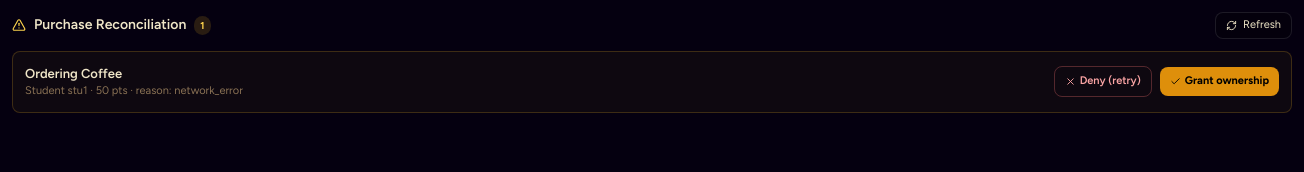
Test: Grant ownership calls resolveReconcile with 'succeeded' and refreshes the queue
This screenshot has width=1304, height=172.
Expected: the element with test id "reconcile-row-stu1::vid_1" is shown, [12,50,1292,112]
Step 1. Click the button with test id "reconcile-grant-stu1::vid_1" → {"x": 1219, "y": 82}, box [1160,67,1279,96]
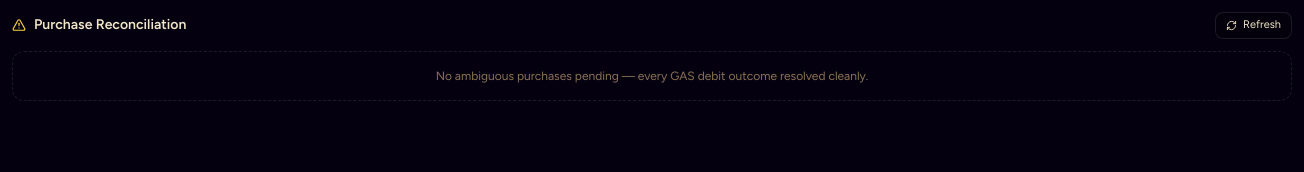
Now the text with test id "reconcile-empty" is shown, box [12,50,1292,100]
